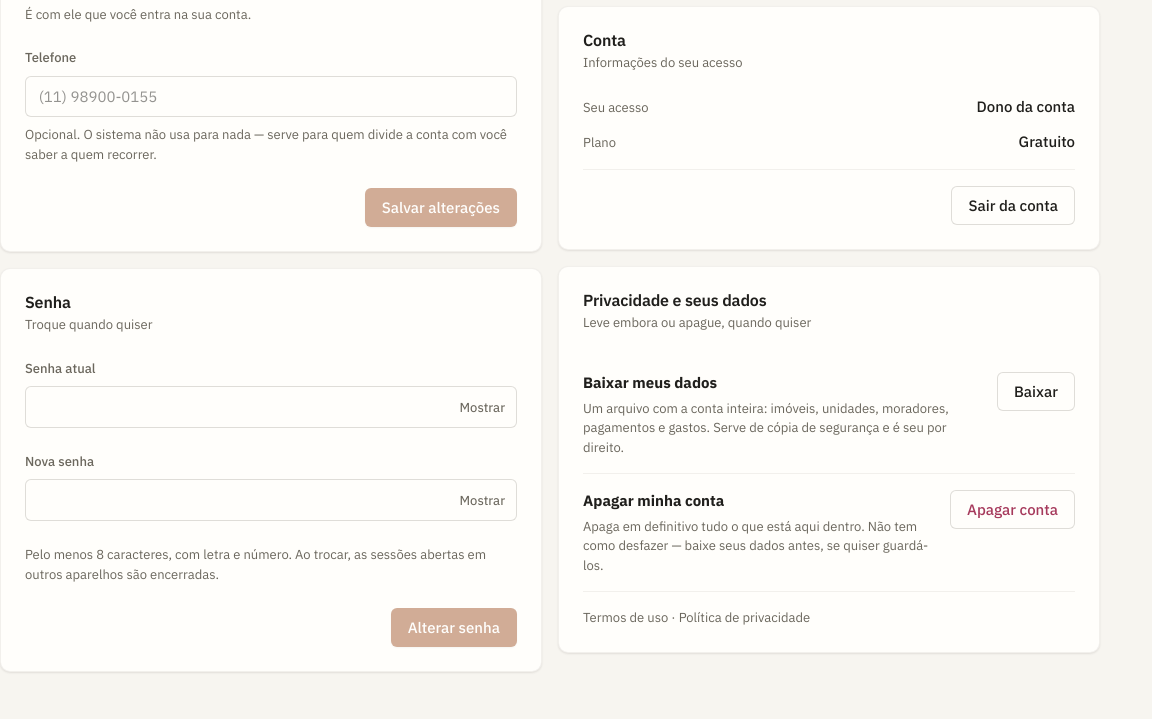
Configurações: privacidade e seus dados › apagar minha conta › mantém a pessoa na tela quando a senha está errada
(page scrolled)
Click the button "Apagar conta": x=1012, y=510 [950,490,1075,530]
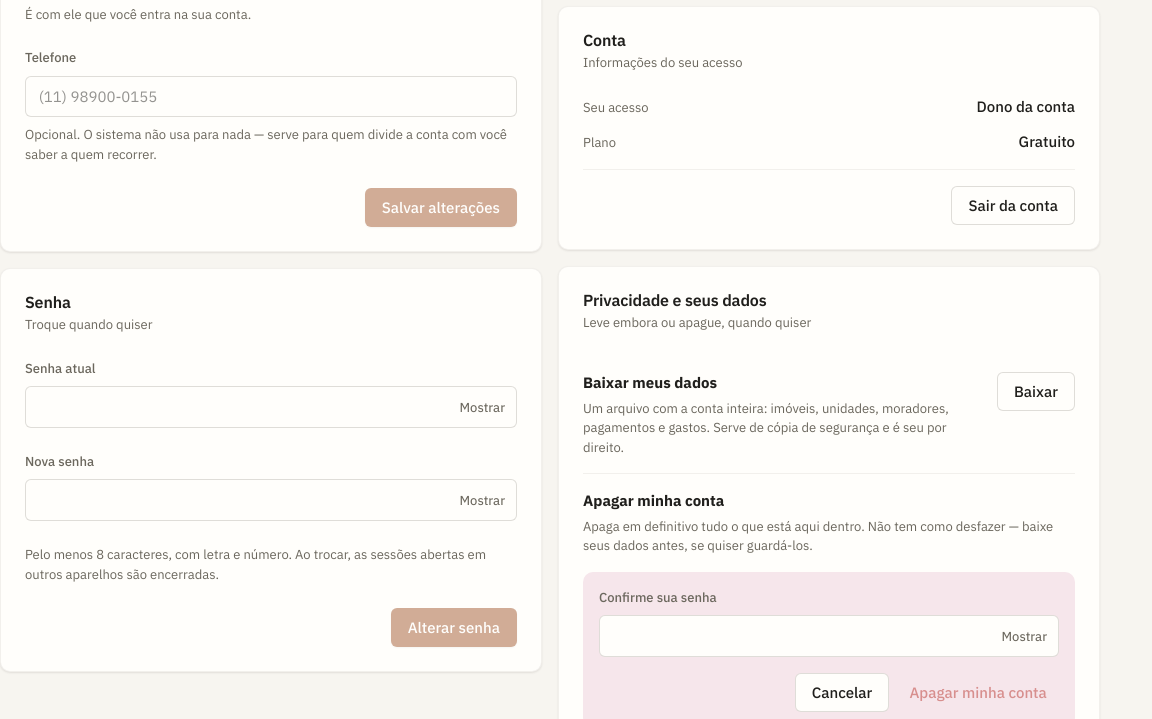
In the password field labelled "Confirme sua senha": x=829, y=636 [599,615,1059,657], type "errada"
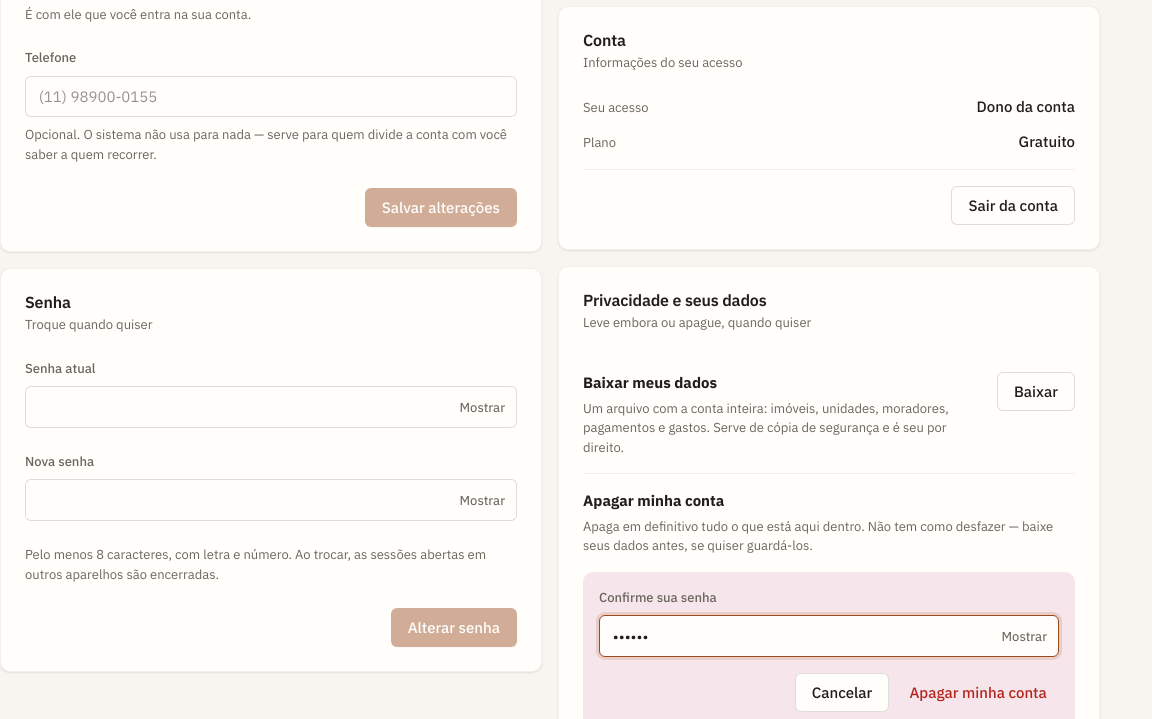
Click the button "Apagar minha conta": x=978, y=693 [897,673,1059,712]
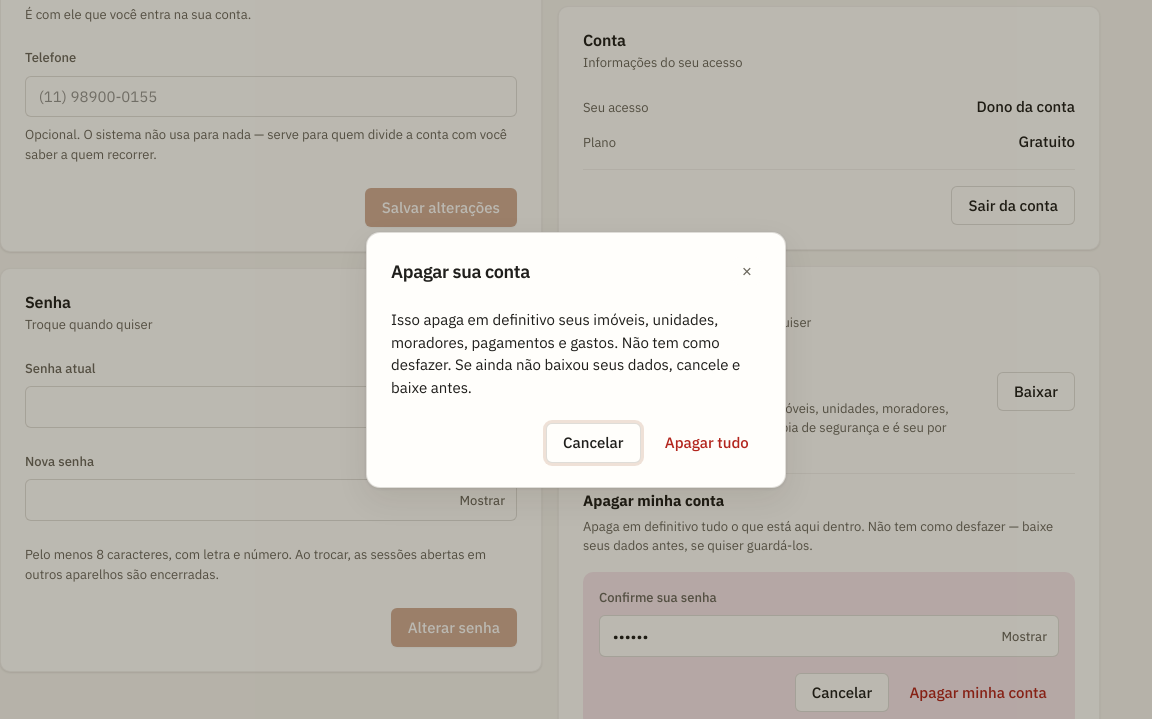
Click the button "Apagar tudo": x=707, y=443 [653,423,761,463]
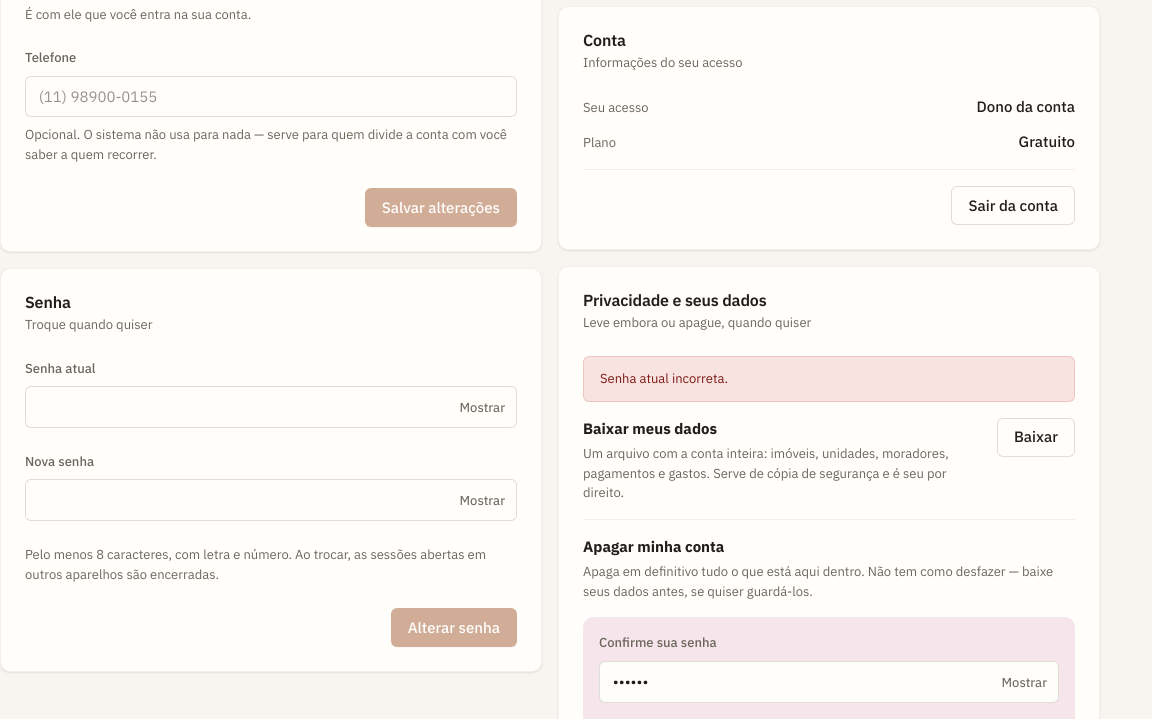
Now the text "Senha atual incorreta." is shown, box [583,356,1075,402]
